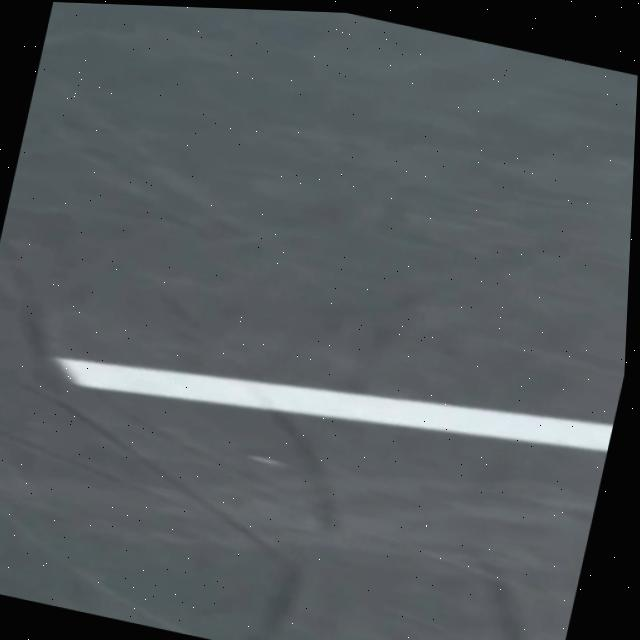center: (52, 356, 613, 451)
